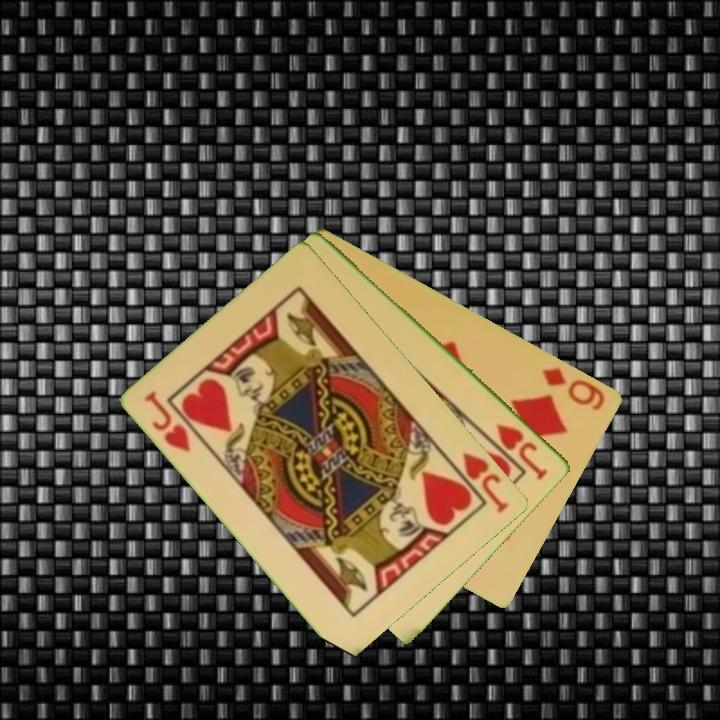6d: (539, 364, 609, 414)
Jh: (493, 419, 552, 483), (459, 449, 513, 516), (141, 387, 194, 455)
